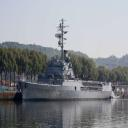Portanaves: (18, 18, 114, 104)
